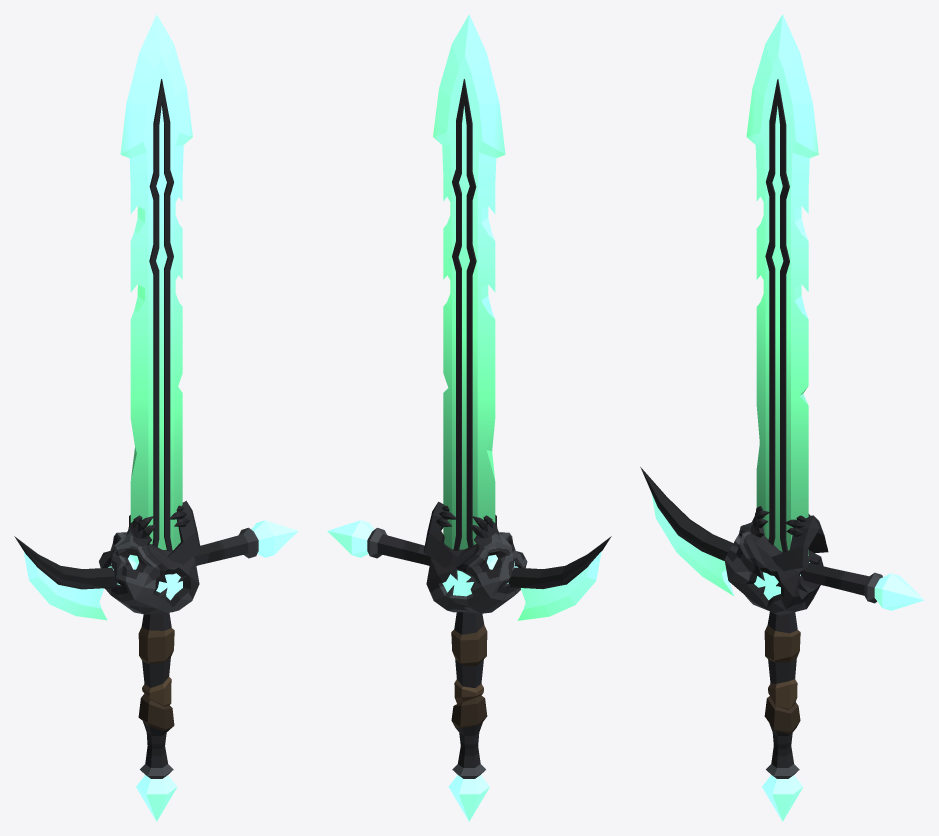
File: SM_Wep_Sword_03.fbx
The picture shows the model from 3 angles, left to right: view 1: azimuth 30°, elevation 25°; view 2: azimuth 150°, elevation 25°; view 3: azimuth 330°, elevation 25°; orthographic projection.
Visible parts, largest first — view 1: SM_Wep_Sword_03; view 2: SM_Wep_Sword_03; view 3: SM_Wep_Sword_03.
Boxes of the visible parts, bbox=[...] form: SM_Wep_Sword_03: bbox=[14, 14, 298, 821]; SM_Wep_Sword_03: bbox=[327, 14, 611, 821]; SM_Wep_Sword_03: bbox=[640, 14, 924, 821].
Size of the model in its own units: 58.83 by 160 by 12.24.
